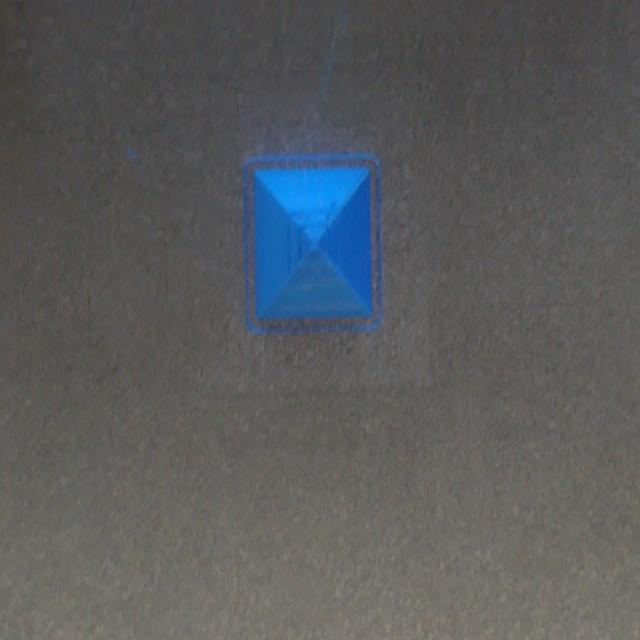mistake: (293, 205, 334, 265)
